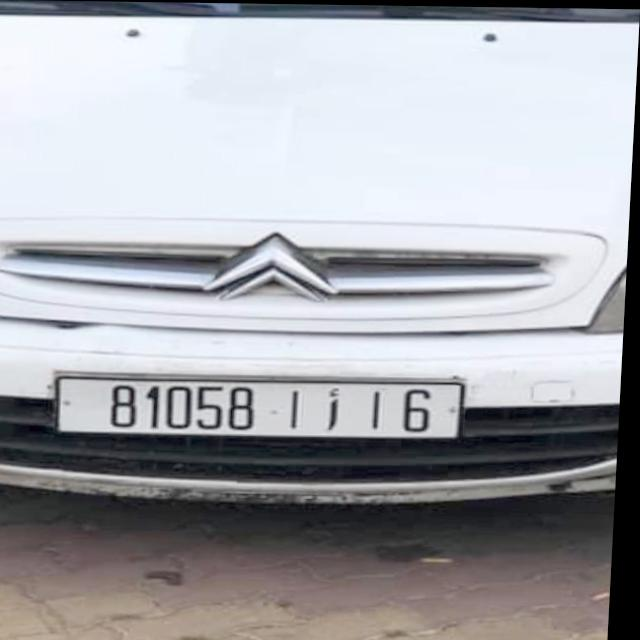License-Plate: (62, 377, 467, 437)
